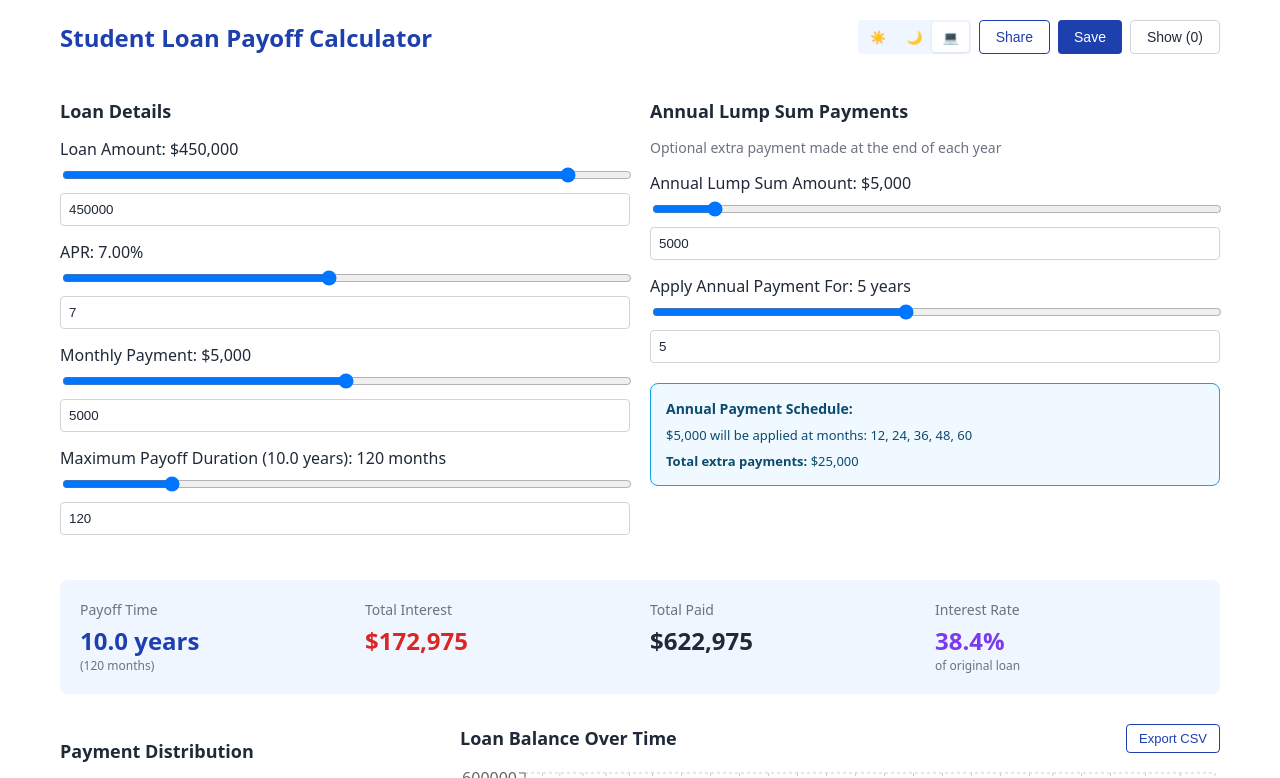
Scenario: App › opens save dialog when save button clicked
What coordinates should you click on to do the following:
click the button "Save"
I would click on:
 (1090, 37)
Its box is [1058,20,1122,54].
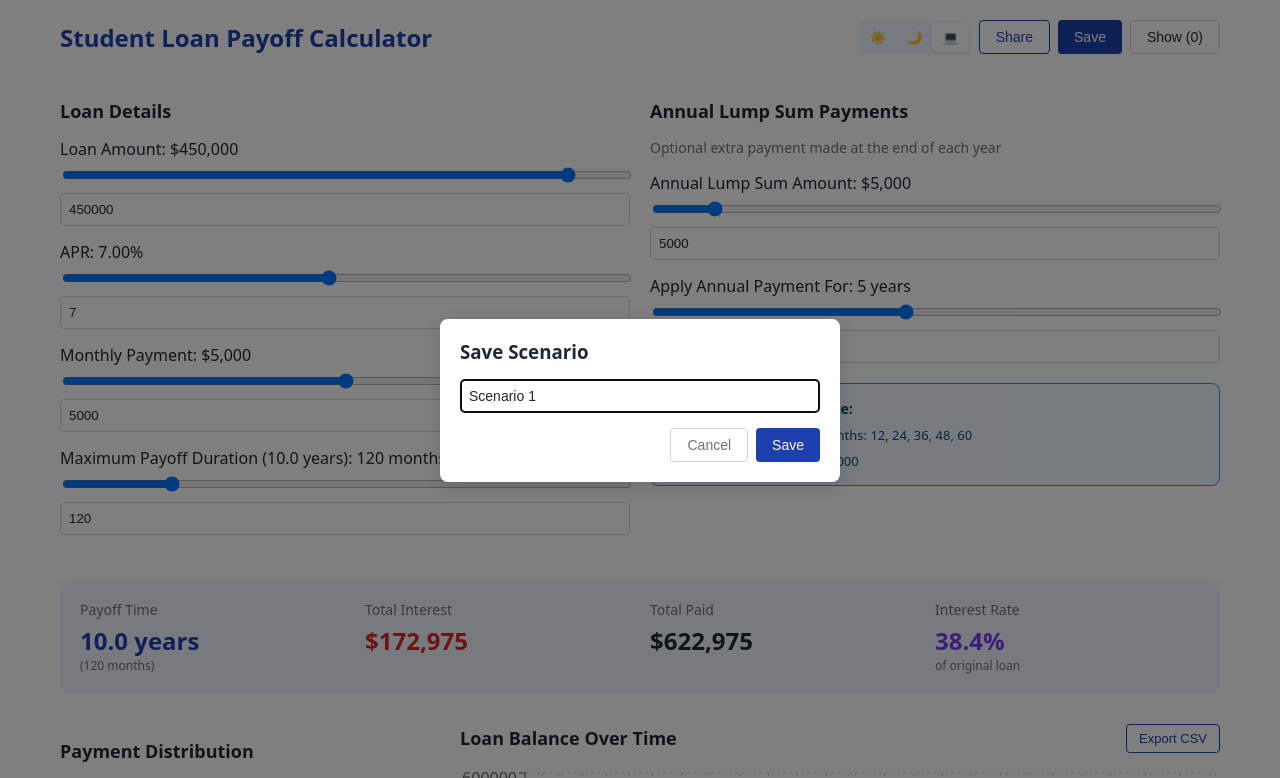
Now the heading "Save Scenario" is shown, box [460,338,588,364]
Now the field with placeholder "Enter scenario name..." is shown, box [460,378,820,412]
